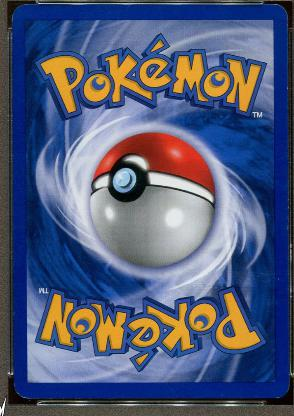Card: (7, 1, 291, 405)
Corner Wear: (12, 380, 34, 400), (270, 383, 289, 399), (10, 10, 16, 26)
Edge Wear: (284, 74, 288, 172), (284, 194, 288, 232)
